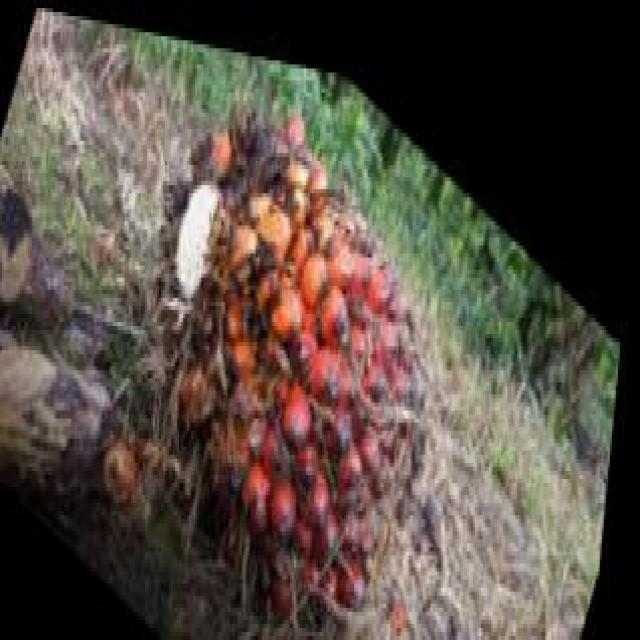Ripefruit: (105, 24, 483, 640)
